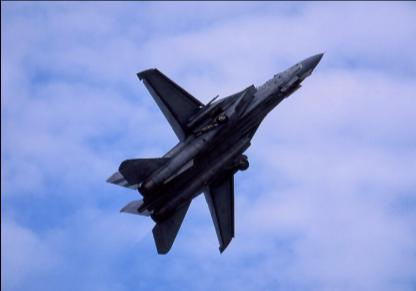EF2000: (105, 50, 327, 254)
